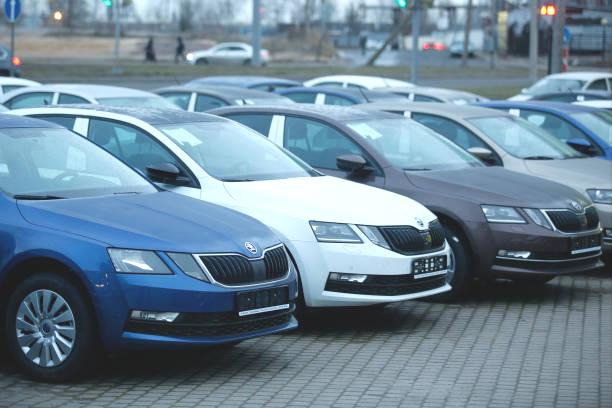skoda: (236, 238, 266, 256)
